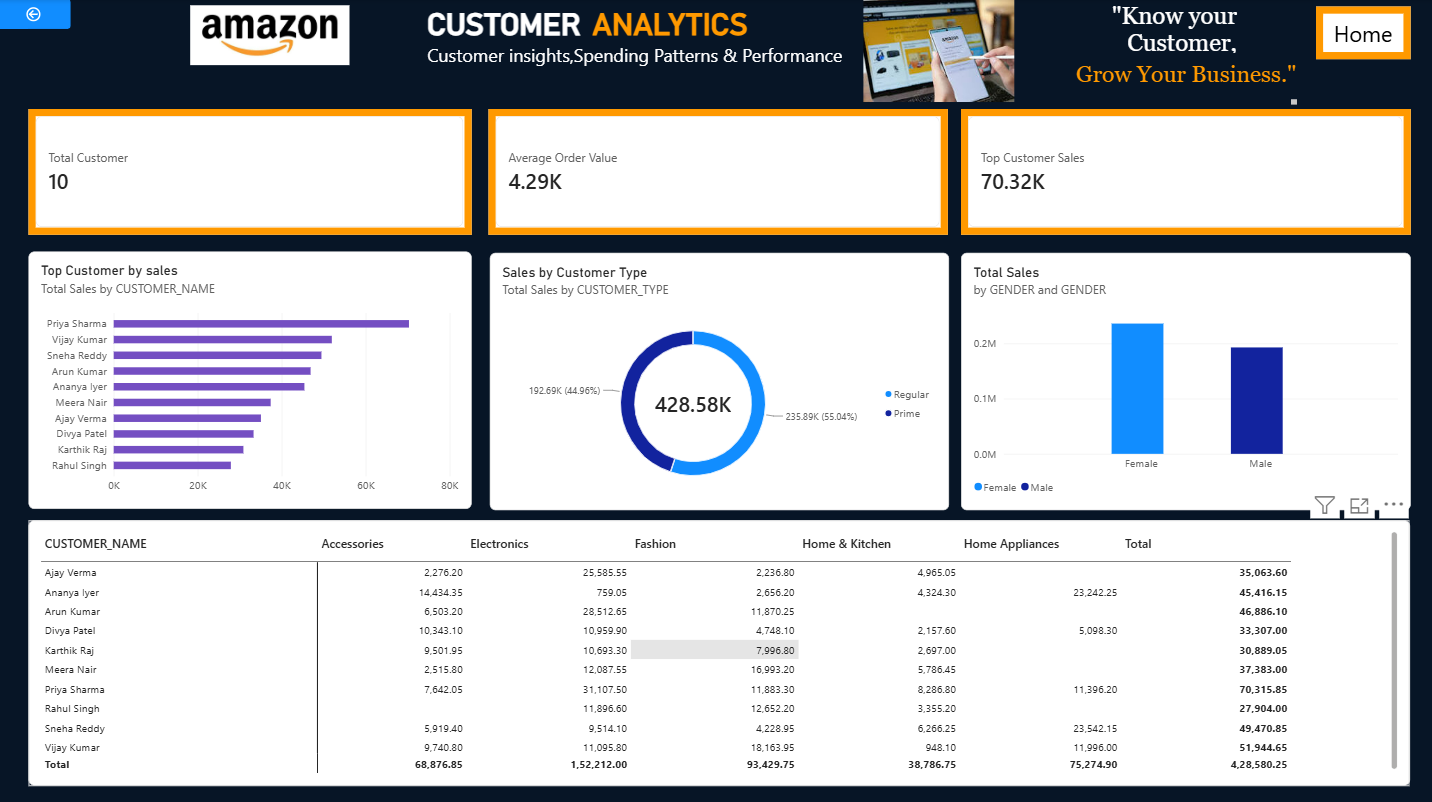

Layout of this report page (visuals, bound fields, positions):
{"tool":"powerbi","page":{"name":"Customer_Analytics","canvas":[1920,1080],"ordinal":2},"visuals":[{"type":"textbox","title":"CUSTOMER","box":[576,10,620,102],"z":0},{"type":"textbox","title":"ANALYTICS","box":[796,10,299.8,55.9],"z":1000},{"type":"cardVisual","fields":{"Data":["CUSTOMER.Total Customer"]},"box":[43.4,146.6,591.8,168.3],"z":2000},{"type":"cardVisual","fields":{"Data":["FACT_TABLE.Average Order Value"]},"box":[658.7,146.6,613.5,168.3],"z":3000},{"type":"cardVisual","fields":{"Data":["FACT_TABLE.Top Customer Sales"]},"box":[1288.5,146.6,600.8,168.3],"z":4000},{"type":"clusteredBarChart","title":"Top Customer by sales","fields":{"Y":["FACT_TABLE.Total Sales"],"Category":["CUSTOMER.CUSTOMER_NAME"]},"box":[42.8,337,591.8,343.8],"z":5000},{"type":"donutChart","title":"Sales by Customer Type","fields":{"Y":["FACT_TABLE.Total Sales"],"Category":["CUSTOMER.CUSTOMER_TYPE"]},"box":[659.1,338.9,613.5,343.8],"z":6000},{"type":"columnChart","fields":{"Category":["CUSTOMER.GENDER"],"Y":["FACT_TABLE.Total Sales"],"Series":["CUSTOMER.GENDER"]},"box":[1288.5,338.9,600.8,343.8],"z":7000},{"type":"pivotTable","fields":{"Rows":["CUSTOMER.CUSTOMER_NAME"],"Columns":["PRODUCT.CATEGORY"],"Values":["FACT_TABLE.Total Sales"]},"box":[43.4,696.7,1845.9,354.7],"z":8000},{"type":"actionButton","box":[1763.2,9.3,126.6,70.8],"z":9000},{"type":"actionButton","box":[0,0,100,40],"z":10000},{"type":"image","box":[215.3,9,300.4,79.6],"z":11000},{"type":"image","box":[1078.6,0,361.9,137.5],"z":12000},{"type":"textbox","title":"\"Know your Customer, ","box":[1424.2,3.6,233.4,68.8],"z":13000},{"type":"textbox","title":"Grow Your Business.\"","box":[1442.3,83.2,295,57.9],"z":14000}]}

Visuals, with their boxes in screenshot pixels (x1, y1, x2, y2), scaled from the page's 1920x1080 canvas onto the 1432x802 screenshot:
"CUSTOMER" textbox: {"left": 430, "top": 7, "right": 892, "bottom": 83}
"ANALYTICS" textbox: {"left": 594, "top": 7, "right": 817, "bottom": 49}
cardVisual - CUSTOMER.Total Customer: {"left": 32, "top": 109, "right": 474, "bottom": 234}
cardVisual - FACT_TABLE.Average Order Value: {"left": 491, "top": 109, "right": 949, "bottom": 234}
cardVisual - FACT_TABLE.Top Customer Sales: {"left": 961, "top": 109, "right": 1409, "bottom": 234}
"Top Customer by sales" clusteredBarChart: {"left": 32, "top": 250, "right": 473, "bottom": 506}
"Sales by Customer Type" donutChart: {"left": 492, "top": 252, "right": 949, "bottom": 507}
columnChart - CUSTOMER.GENDER x FACT_TABLE.Total Sales: {"left": 961, "top": 252, "right": 1409, "bottom": 507}
pivotTable - CUSTOMER.CUSTOMER_NAME x PRODUCT.CATEGORY: {"left": 32, "top": 517, "right": 1409, "bottom": 781}
actionButton: {"left": 1315, "top": 7, "right": 1409, "bottom": 59}
actionButton: {"left": 0, "top": 0, "right": 75, "bottom": 30}
image: {"left": 161, "top": 7, "right": 385, "bottom": 66}
image: {"left": 804, "top": 0, "right": 1074, "bottom": 102}
""Know your Customer, " textbox: {"left": 1062, "top": 3, "right": 1236, "bottom": 54}
"Grow Your Business."" textbox: {"left": 1076, "top": 62, "right": 1296, "bottom": 105}
